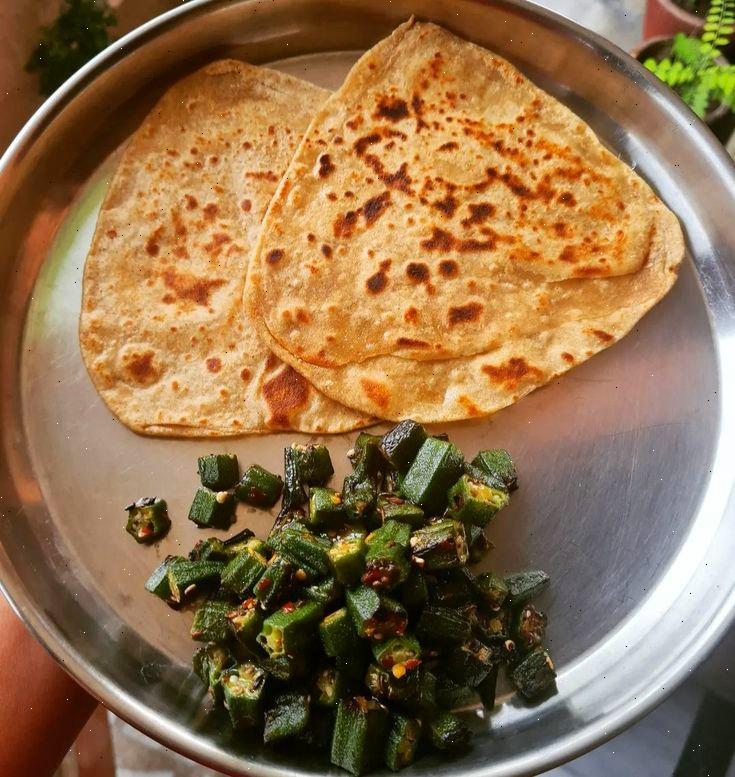bhindi: (190, 455, 540, 759)
